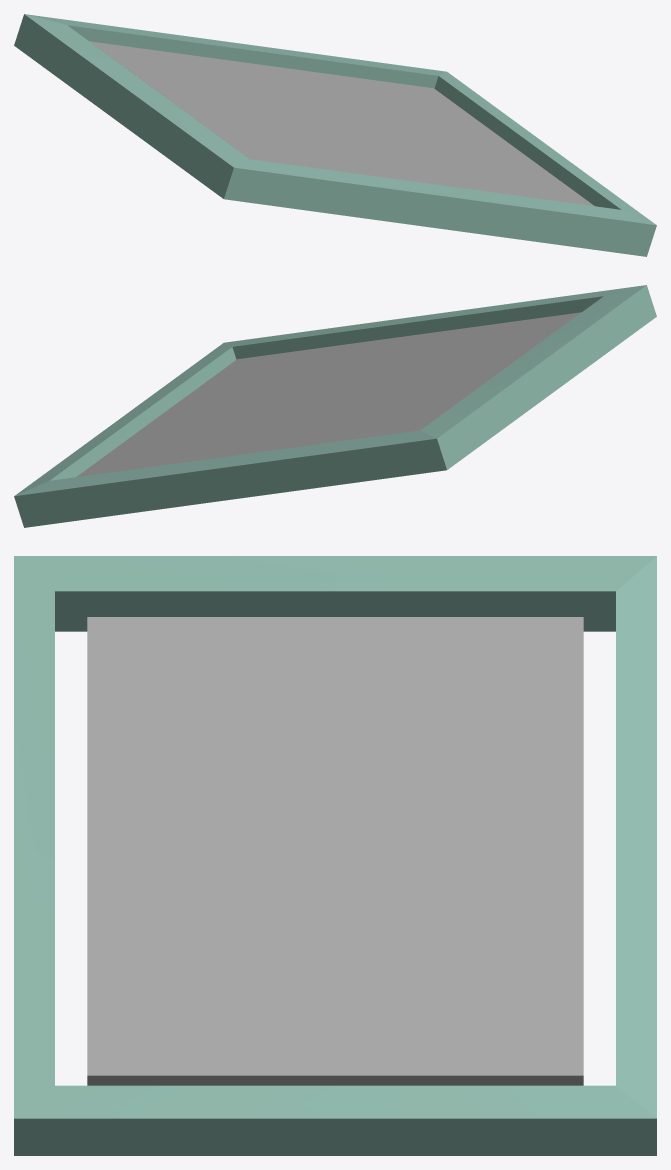
The model's file is hopper.fbx.
The picture shows the model from 3 angles, top to bottom: view 1: azimuth 30°, elevation 25°; view 2: azimuth 150°, elevation 25°; view 3: azimuth 270°, elevation 25°; orthographic projection. The views are drawn at different scales.
Parts seen in each view (by area): view 1: it2, it1; view 2: it2, it1; view 3: it1, it2.
Part boxes in pixels (x1,y1,x2,y2): it2: [14, 14, 656, 256]; it1: [89, 41, 594, 206]; it2: [14, 285, 656, 527]; it1: [76, 312, 581, 477]; it1: [87, 617, 583, 1085]; it2: [14, 556, 656, 1155].
Size of the model in its own units: 5.67 by 2.38 by 4.76.
